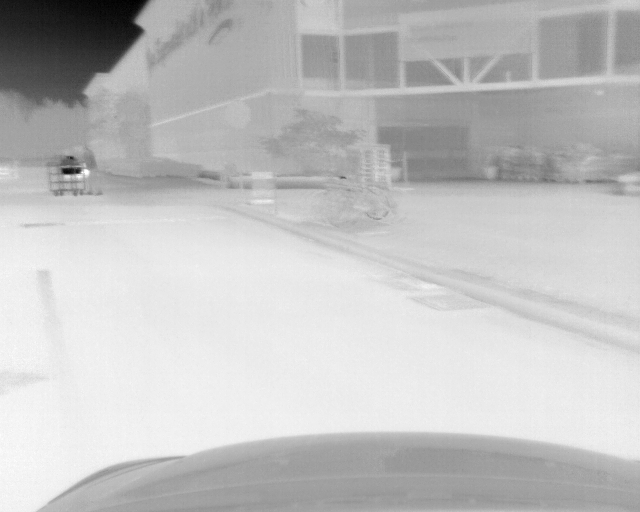bike: (323, 182, 407, 233)
people: (80, 143, 105, 197)
